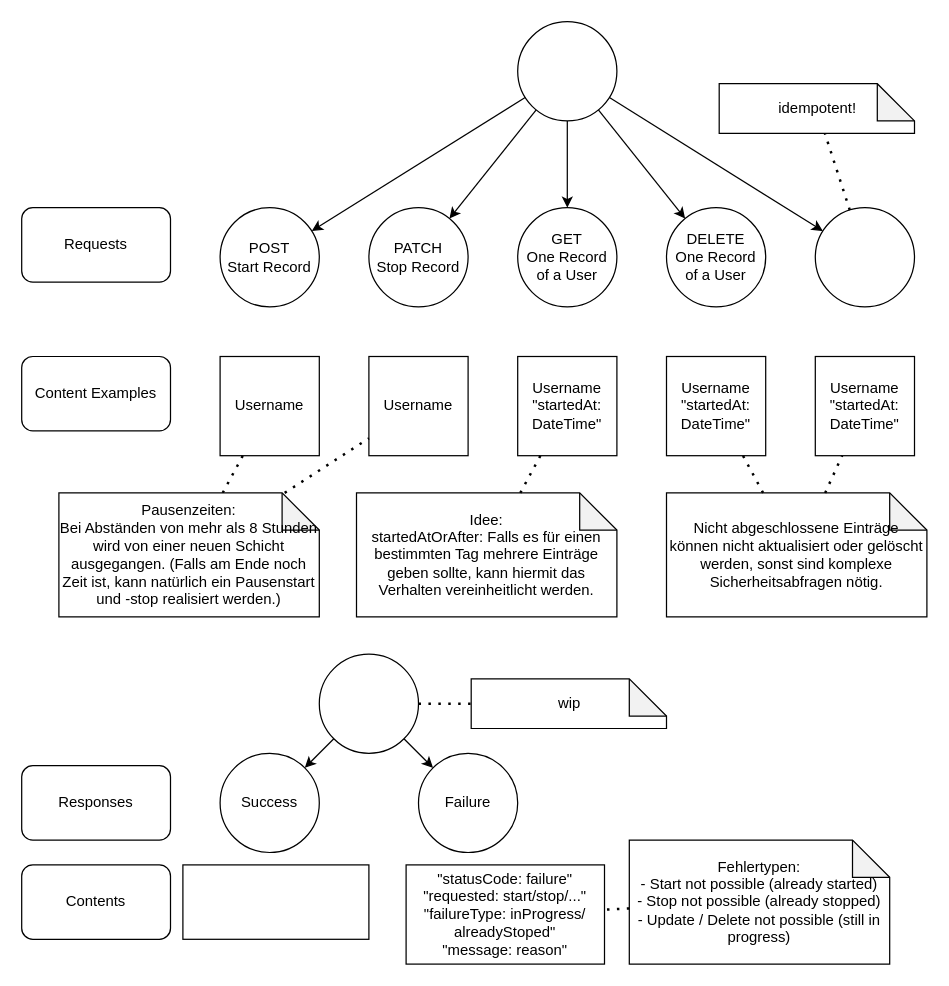
The diagram is 949 pixels wide and 986 high, and some of its shapes have lost their labels. The shapes that lost their labels are listed below. From the top down, each one's centre as x and y in pixels, then its label:
the point at 566,70: Timetracker API Requests
the point at 864,256: PUT Update a Record of a User
the point at 368,703: Timetracker API Responses
the point at 275,901: "statusCode: success" "requested: start/stop/..." "message: example"
